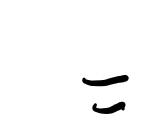eqv: (82, 75, 129, 114)
